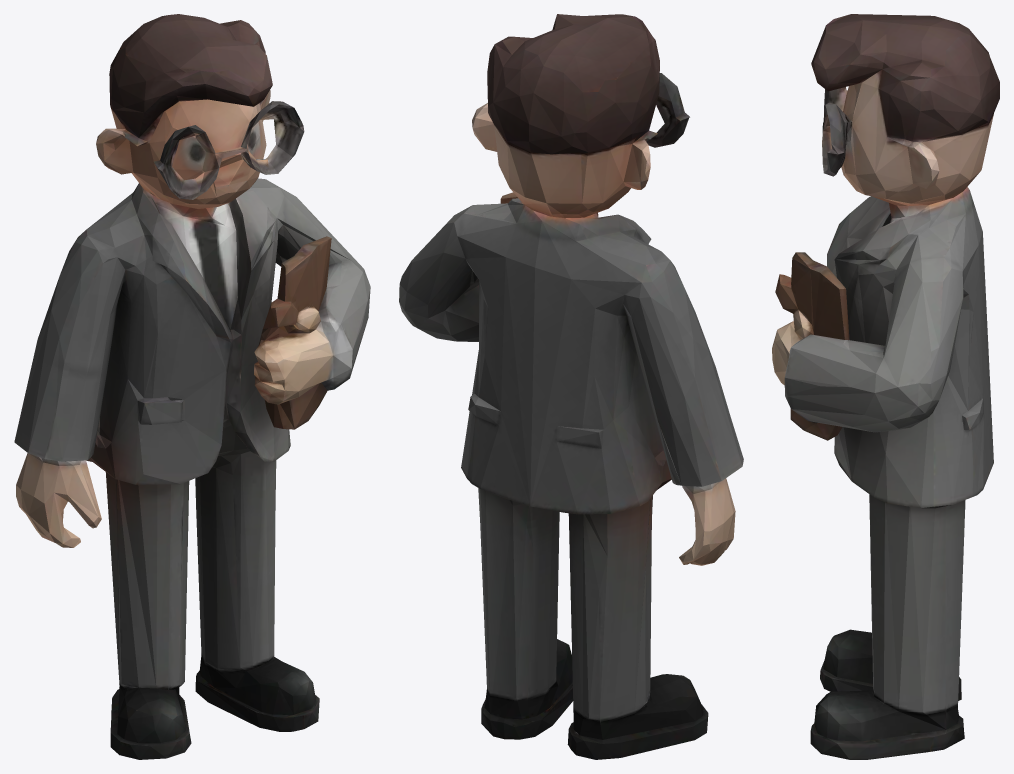
File: price.glb
The picture shows the model from 3 angles, left to right: view 1: azimuth 30°, elevation 25°; view 2: azimuth 150°, elevation 25°; view 3: azimuth 270°, elevation 25°; orthographic projection. The views are drawn at different scales.
Parts seen in each view (by area): view 1: geometry_0; view 2: geometry_0; view 3: geometry_0.
Part boxes in pixels (x1,y1,x2,y2): geometry_0: [14, 14, 370, 759]; geometry_0: [399, 14, 743, 759]; geometry_0: [772, 14, 999, 759].
Size of the model in its own units: 0.5088 by 0.9998 by 0.2999.
Materials: 1 (1 with a texture image).
